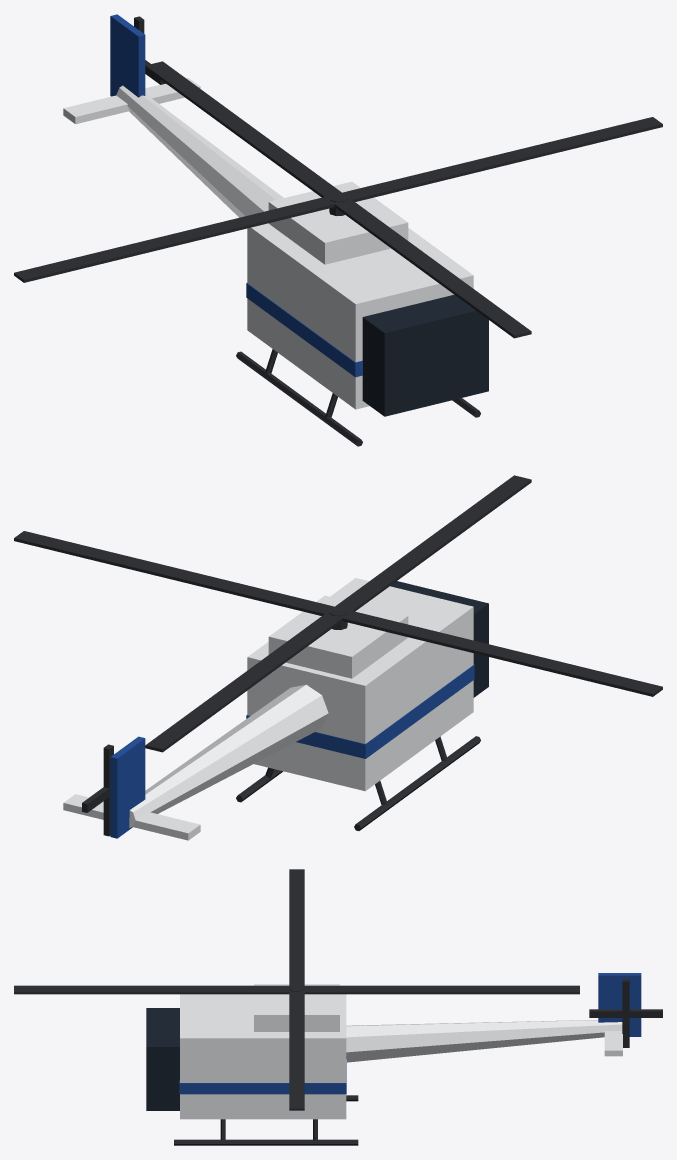
File: veh_police_heli.glb
3 views of the same model, one above another, from view 1: azimuth 30°, elevation 25°; view 2: azimuth 150°, elevation 25°; view 3: azimuth 270°, elevation 25° (orthographic). The views are drawn at different scales.
Parts seen in each view (by area): view 1: veh_police_heli, rotor; view 2: veh_police_heli, rotor, tail_rotor; view 3: veh_police_heli, rotor, tail_rotor.
Part boxes in pixels (x1,y1,x2,y2): veh_police_heli: (63,14,488,446); rotor: (14,61,662,338); veh_police_heli: (63,578,488,840); rotor: (14,475,662,752); tail_rotor: (82,744,113,836); veh_police_heli: (146,973,641,1145); rotor: (14,869,579,1110); tail_rotor: (589,979,662,1047).
Size of the model in its own units: 9.2 by 2.66 by 10.55.
